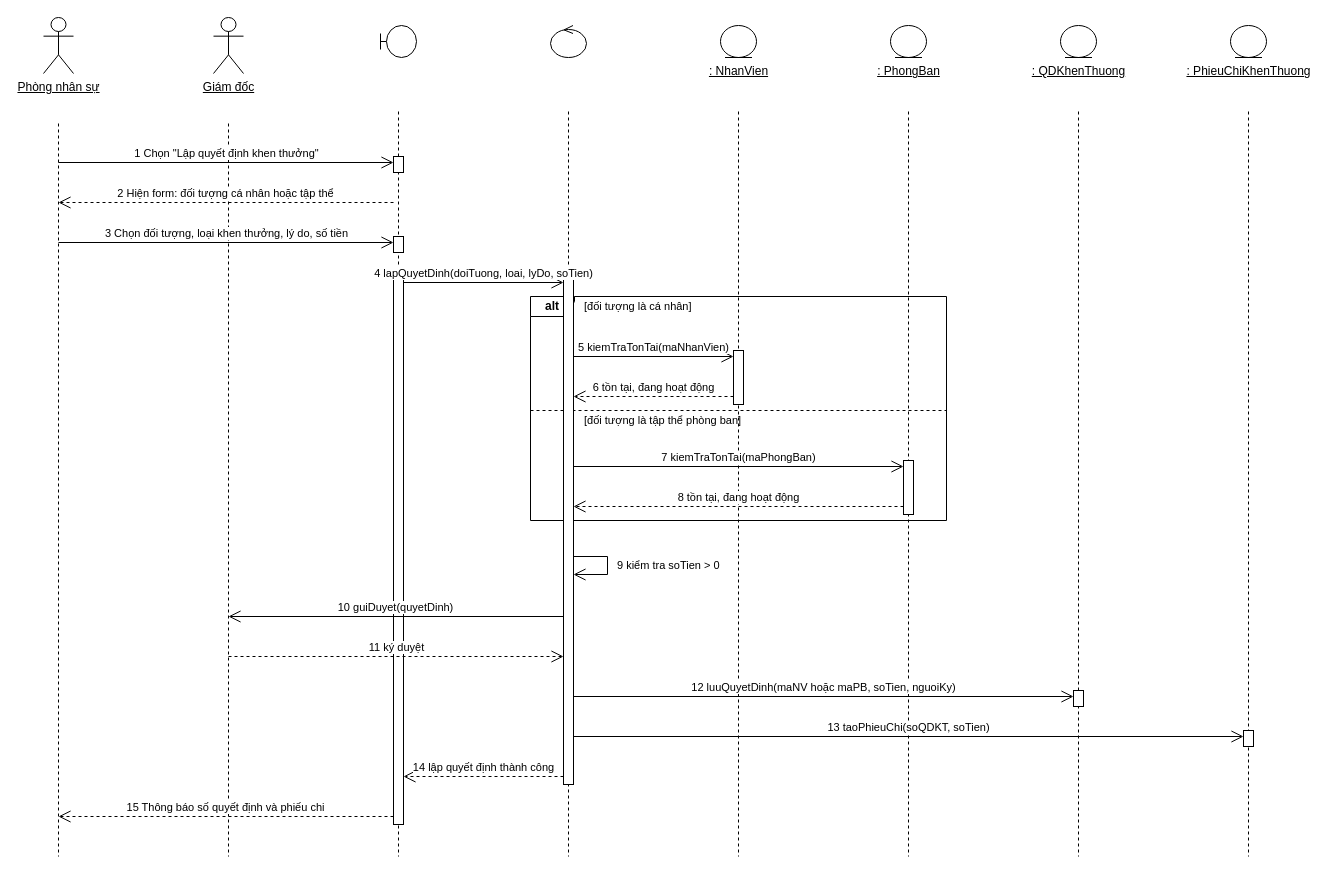
Some shapes in this 1327 by 875 pixel diagram are drawn without their labels. Here are the shapes that lost their labels. From the top down, the centre of each, then its label:
At pixel 398 41: ": FrmKhenThuong".
At pixel 568 41: ": KhenThuongService".
